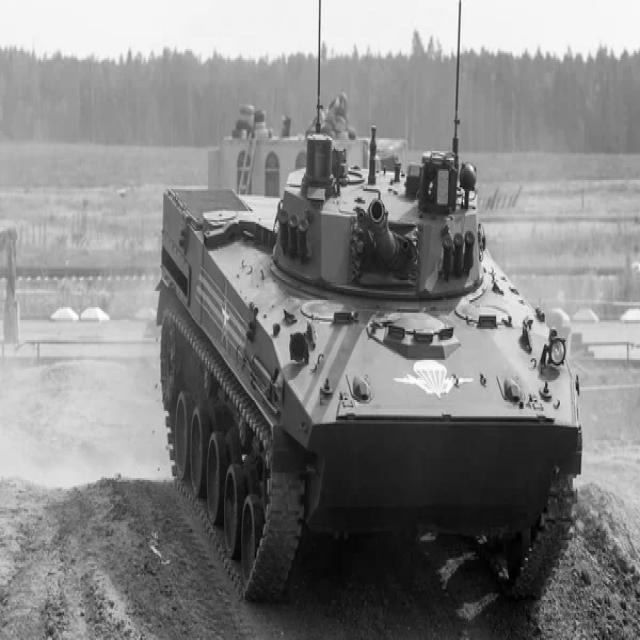Tank: (147, 113, 590, 598)
